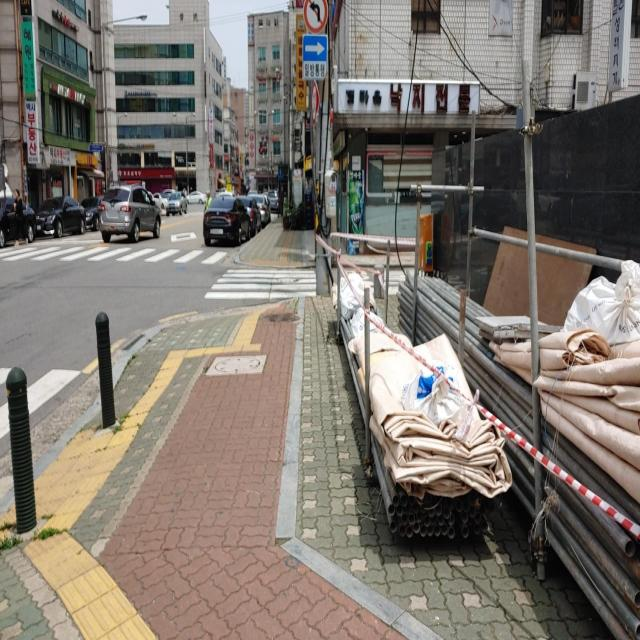횡단보도: (1, 366, 81, 466), (204, 268, 317, 300), (1, 248, 231, 262)
